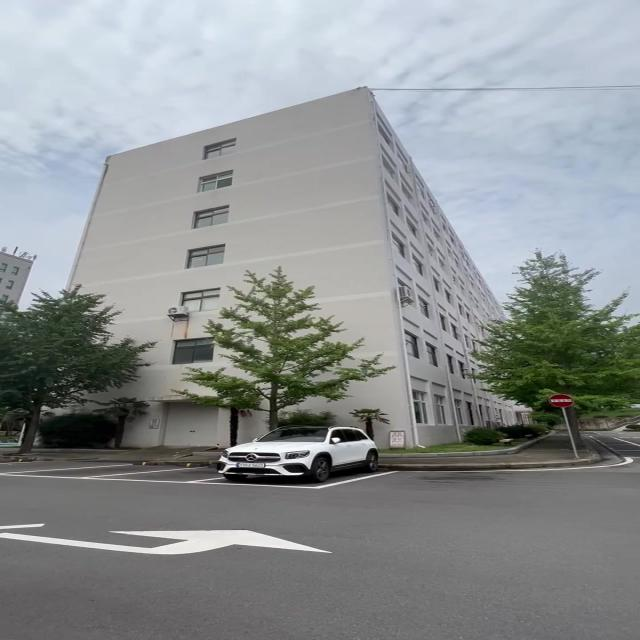building: (54, 101, 476, 306)
